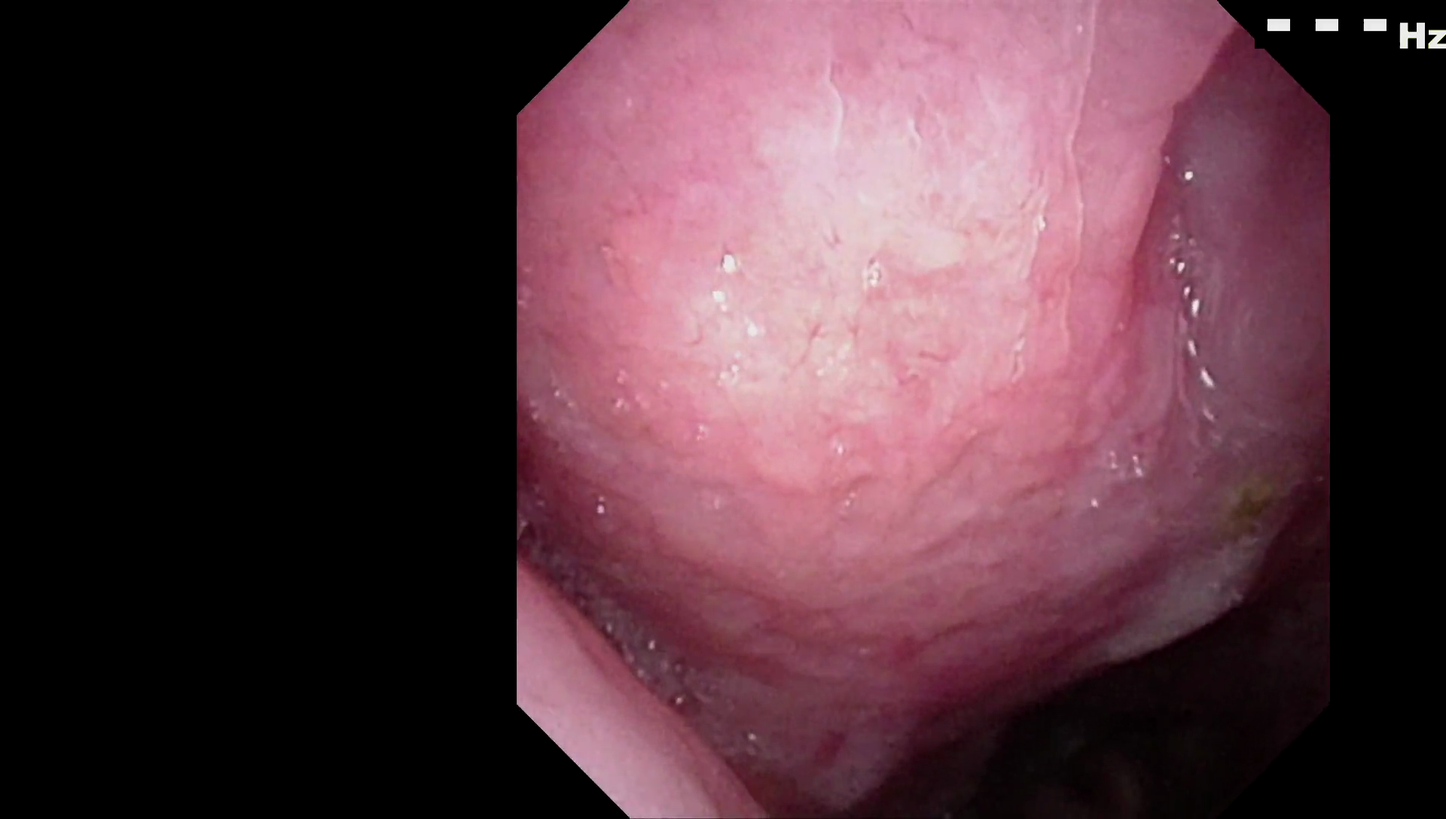close_wall: (582, 49, 1160, 553)
next: (843, 593, 1296, 819)
